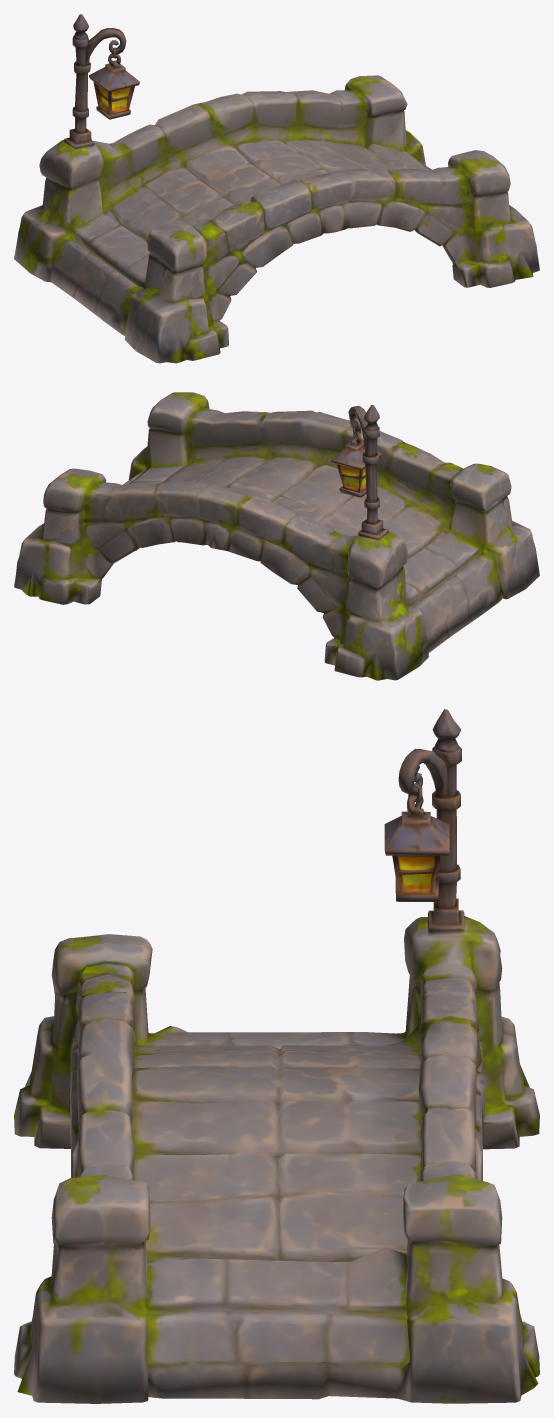
Rendered from Ponte.fbx.
3 renders of one model, top to bottom at view 1: azimuth 30°, elevation 25°; view 2: azimuth 150°, elevation 25°; view 3: azimuth 270°, elevation 25°, orthographic. The views are drawn at different scales.
Visible parts, largest first — view 1: geometry_0; view 2: geometry_0; view 3: geometry_0.
Part boxes in pixels (x1,y1,x2,y2): geometry_0: (14,14,539,363); geometry_0: (14,392,539,680); geometry_0: (14,709,539,1403).
Size of the model in its own units: 1310 by 800 by 915.
Materials: 1 (1 with a texture image).
